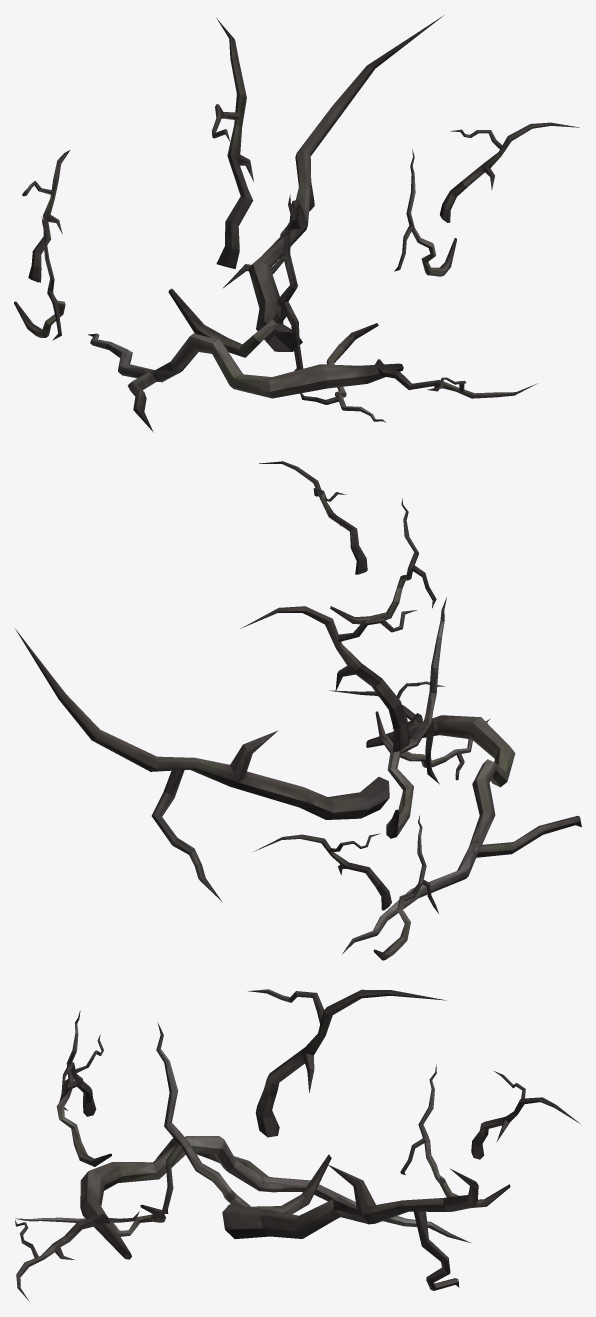
The model's file is Area14_29.fbx.
The picture shows the model from 3 angles, top to bottom: view 1: azimuth 30°, elevation 25°; view 2: azimuth 150°, elevation 25°; view 3: azimuth 270°, elevation 25°; orthographic projection. The views are drawn at different scales.
Parts seen in each view (by area): view 1: Area14_29; view 2: Area14_29; view 3: Area14_29.
Part boxes in pixels (left/top/right/bottom): Area14_29: left=14, top=15, right=579, bottom=432; Area14_29: left=15, top=461, right=581, bottom=960; Area14_29: left=15, top=989, right=579, bottom=1301.
Bounding box in the file's own units: 1071 × 690 × 1168.
